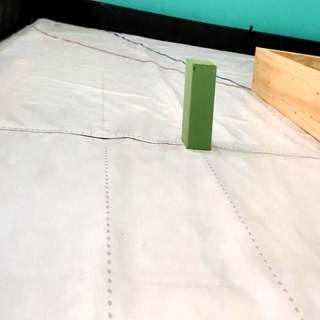greenbox: (182, 56, 218, 152)
